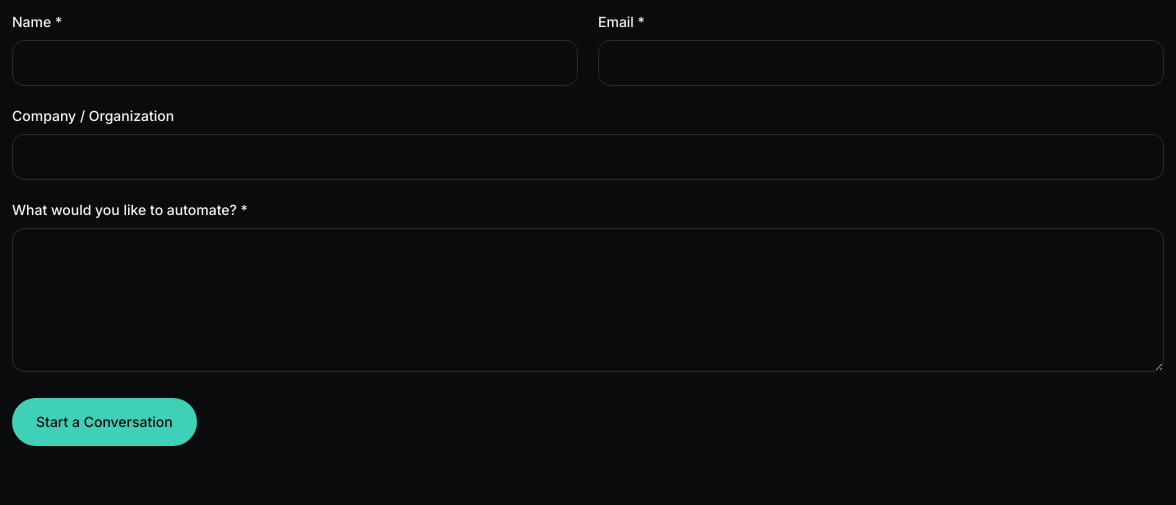
Test case: ContactForm › does not reset the form when submission fails
Type "Jordan Smith" into the field labelled "Name *" at (295, 63), box [12,40,578,86]
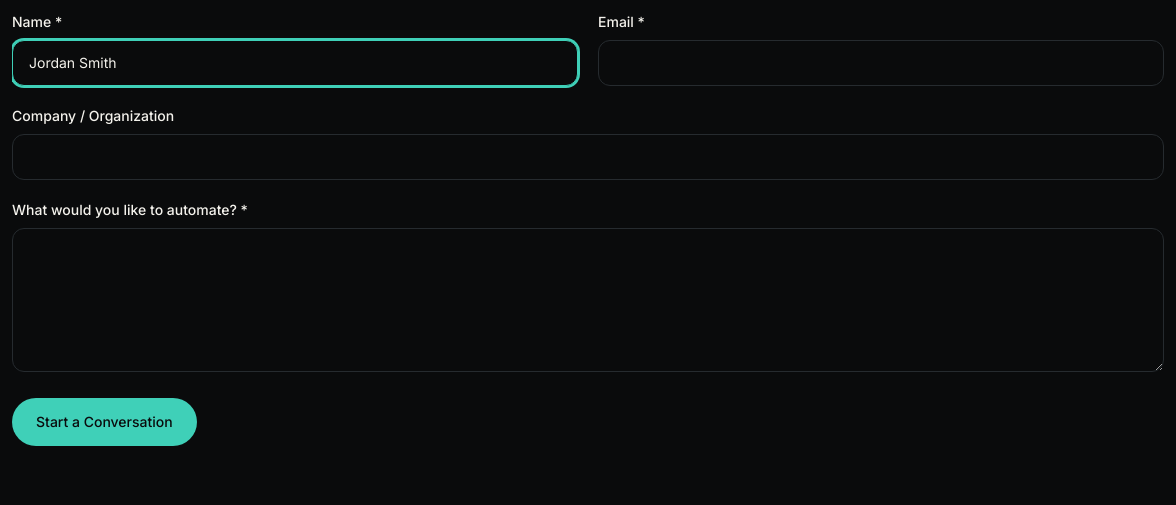
Type "jordan@example.com" into the field labelled "Email *" at (881, 63), box [598,40,1164,86]
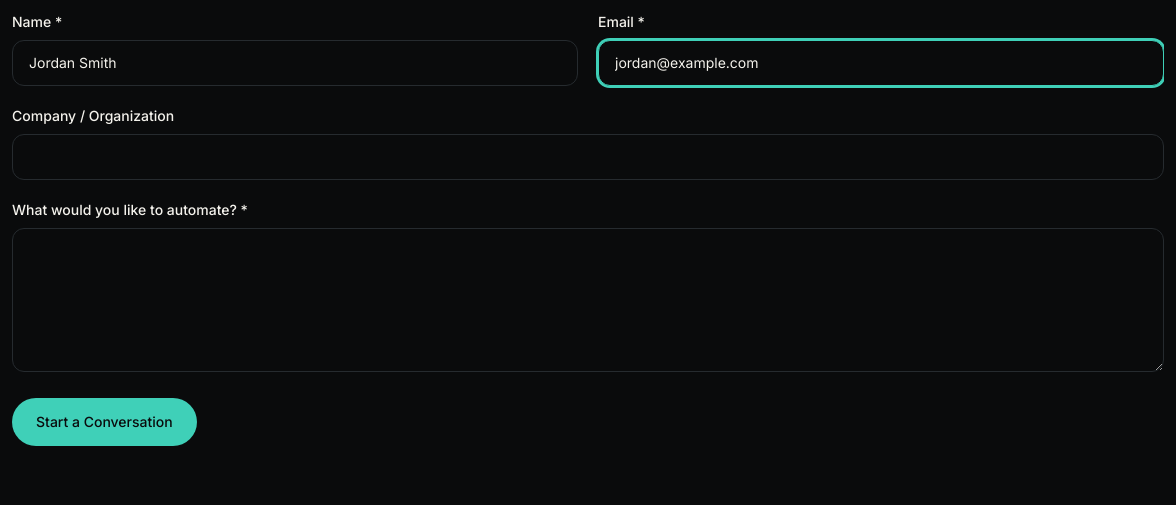
Type "We need help automating our lead routing workflow end to end." into the text box labelled "What would you like to automate? *" at (588, 300), box [12,228,1164,372]
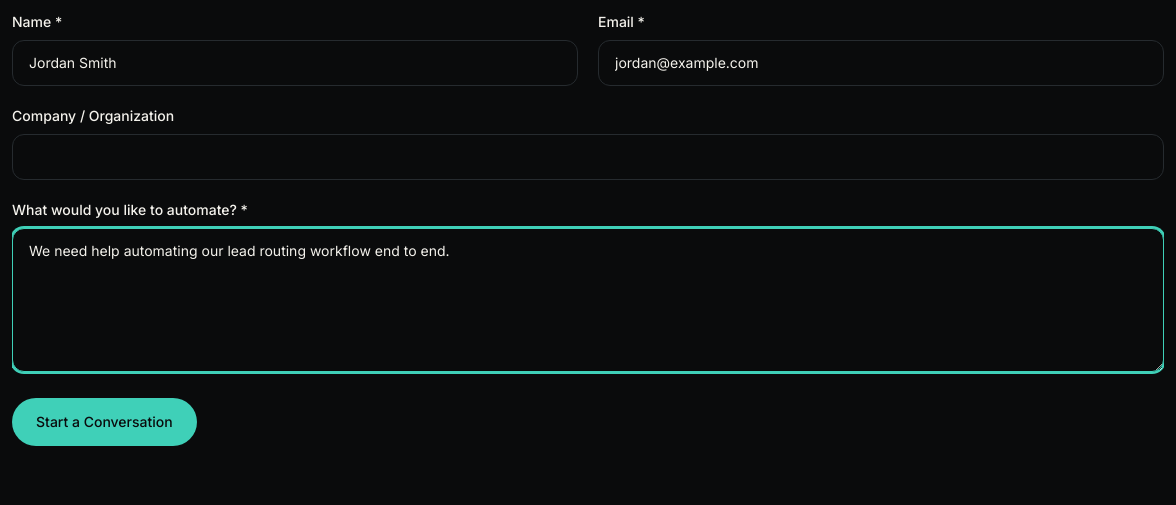
Click the button "Start a Conversation" at (104, 422), box [12,398,197,446]
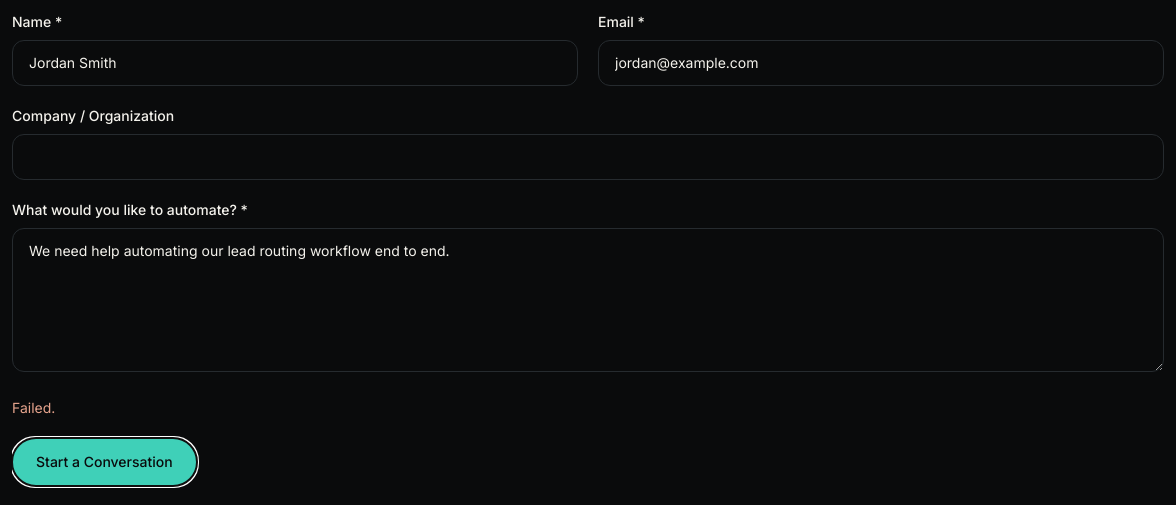
Expected: the text "Failed." is shown, [12,399,55,416]
